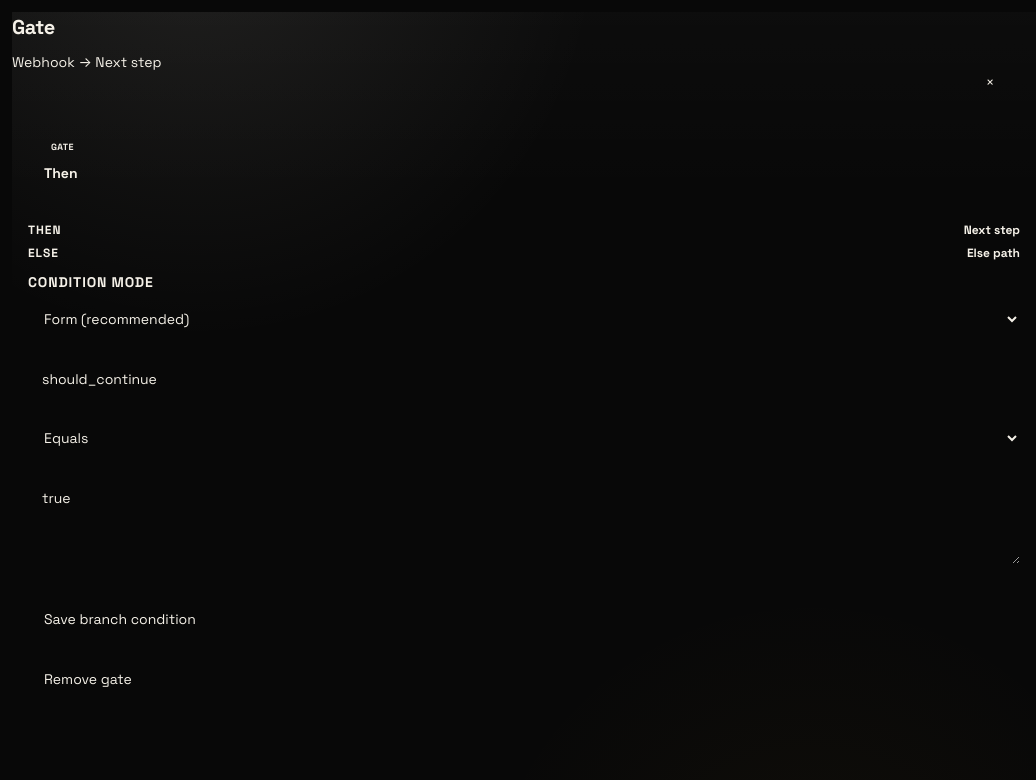
it: MoonNodeDetail › Remove gate clears conditional branch pair and commits a normal release
// Two-click confirm: first click primes the button, second fires the action.
Click the button "Remove gate".
click(88, 680)  # box [28,660,148,700]
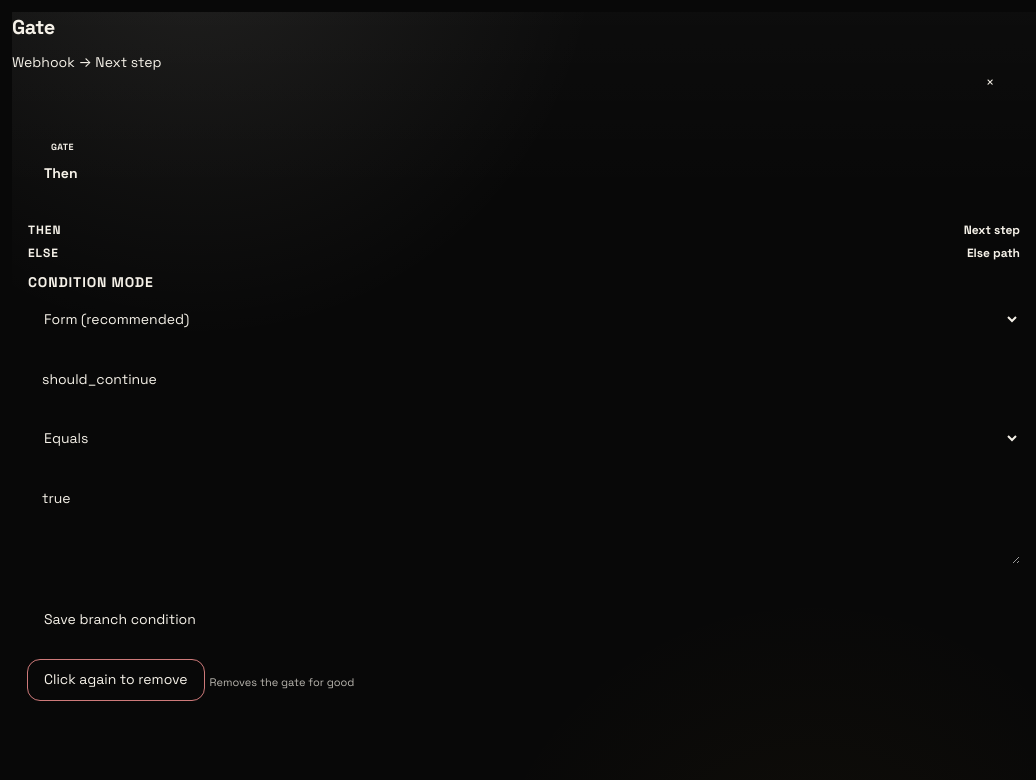
Click the button "Click again to remove".
click(116, 680)  # box [28,660,204,700]
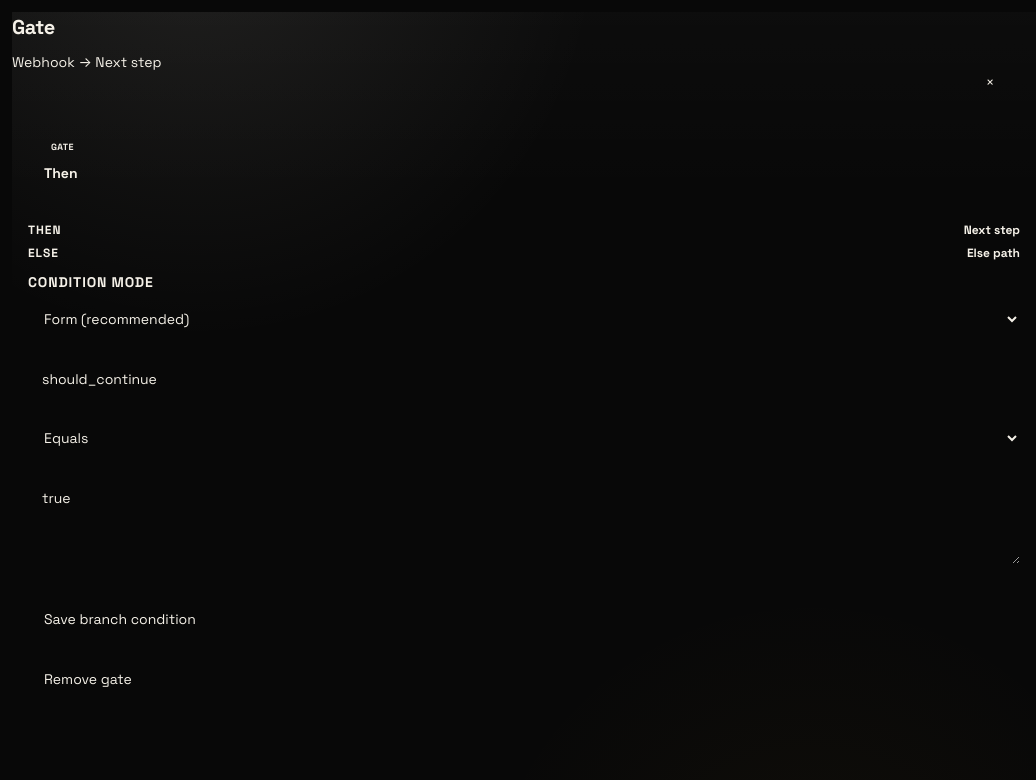
expect the button named "Click again to remove" reads "Remove gate": met, box [28,660,148,700]
